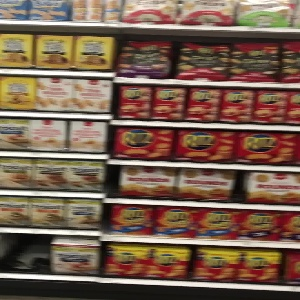void: (1, 235, 50, 272)
